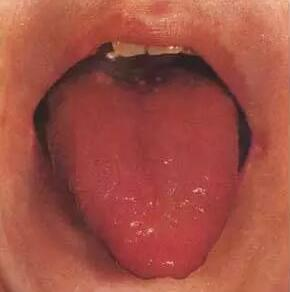hongshe: (47, 71, 238, 280)
shenquao: (107, 72, 180, 92)
xinfeiao: (139, 270, 186, 281)
